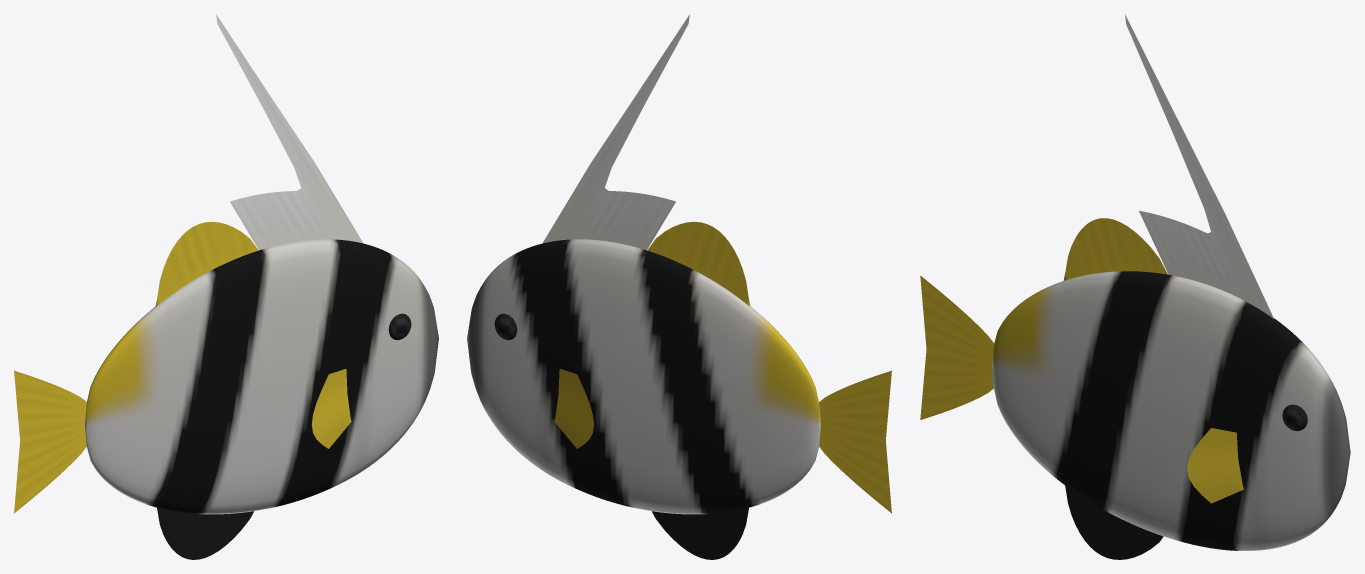
Rendered from flama.glb.
3 renders of one model, left to right at view 1: azimuth 30°, elevation 25°; view 2: azimuth 150°, elevation 25°; view 3: azimuth 330°, elevation 25°, orthographic.
Parts seen in each view (by area): view 1: flama_govde, flama_sirt, flama_kuyruk, flama_sirt2, flama_anal_a, flama_gogusL; view 2: flama_govde, flama_sirt, flama_kuyruk, flama_sirt2, flama_anal_a, flama_gogusR; view 3: flama_govde, flama_sirt, flama_kuyruk, flama_sirt2, flama_anal_a, flama_gogusL, flama_gozL.
Part boxes in pixels (x1,y1,x2,y2): flama_govde: (85, 239, 438, 514); flama_sirt: (216, 14, 363, 250); flama_kuyruk: (14, 370, 86, 513); flama_sirt2: (155, 221, 258, 306); flama_anal_a: (157, 508, 253, 559); flama_gogusL: (311, 369, 351, 448); flama_govde: (467, 239, 820, 514); flama_sirt: (542, 14, 689, 250); flama_kuyruk: (819, 370, 891, 513); flama_sirt2: (647, 221, 750, 306); flama_anal_a: (652, 508, 748, 559); flama_gogusR: (554, 369, 594, 448); flama_govde: (992, 271, 1350, 550); flama_sirt: (1125, 14, 1273, 318); flama_kuyruk: (920, 275, 994, 419); flama_sirt2: (1063, 218, 1167, 280); flama_anal_a: (1065, 485, 1163, 559); flama_gogusL: (1187, 428, 1243, 503); flama_gozL: (1282, 404, 1307, 431).
Bounding box in the file's own units: 0.995 × 1.21 × 0.1399.
